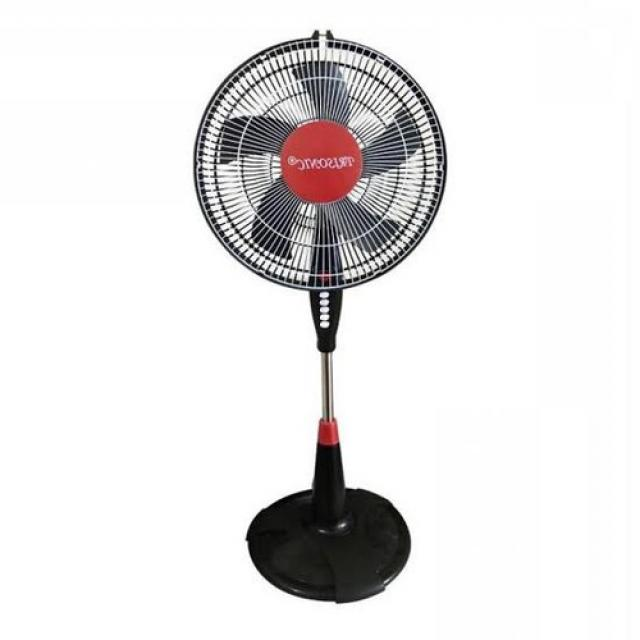fan: (188, 24, 450, 603)
